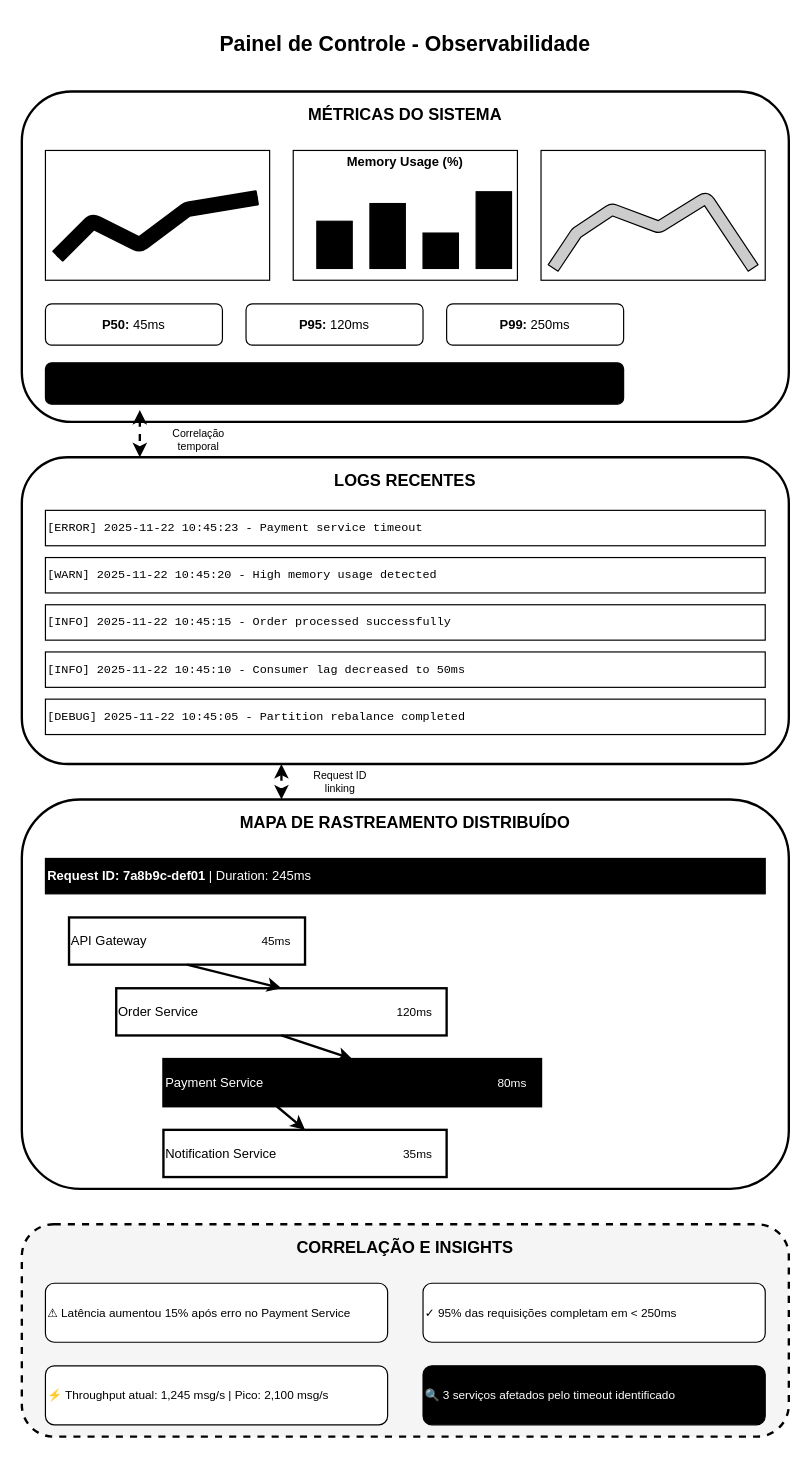
The diagram is 809 pixels wide and 1457 high, and some of its shapes have lost their labels. The shapes that lost their labels are listed below. From the top down, each one's centre as x and y in pixels, then its label:
At (x=157, y=214): "CPU Usage (%)".
At (x=652, y=214): "Throughput (msg/s)".
At (x=334, y=383): "Error Rate: 0.3%".
